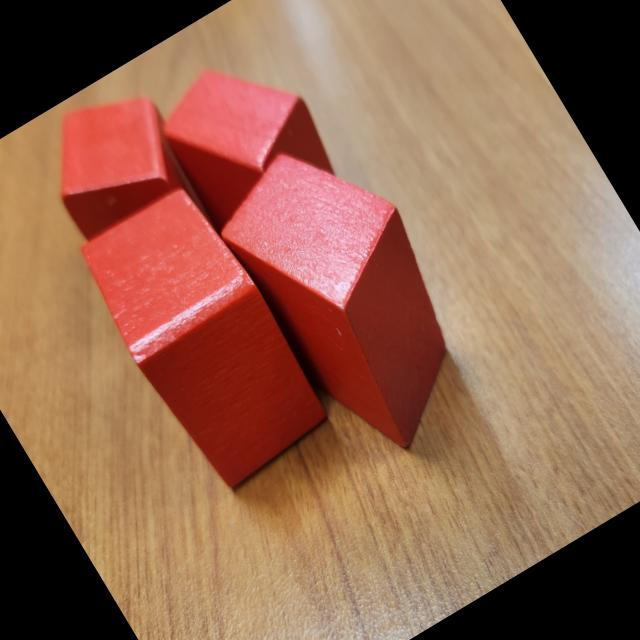red: (199, 114, 507, 477), (65, 172, 348, 504), (140, 32, 347, 245), (22, 72, 200, 245)
